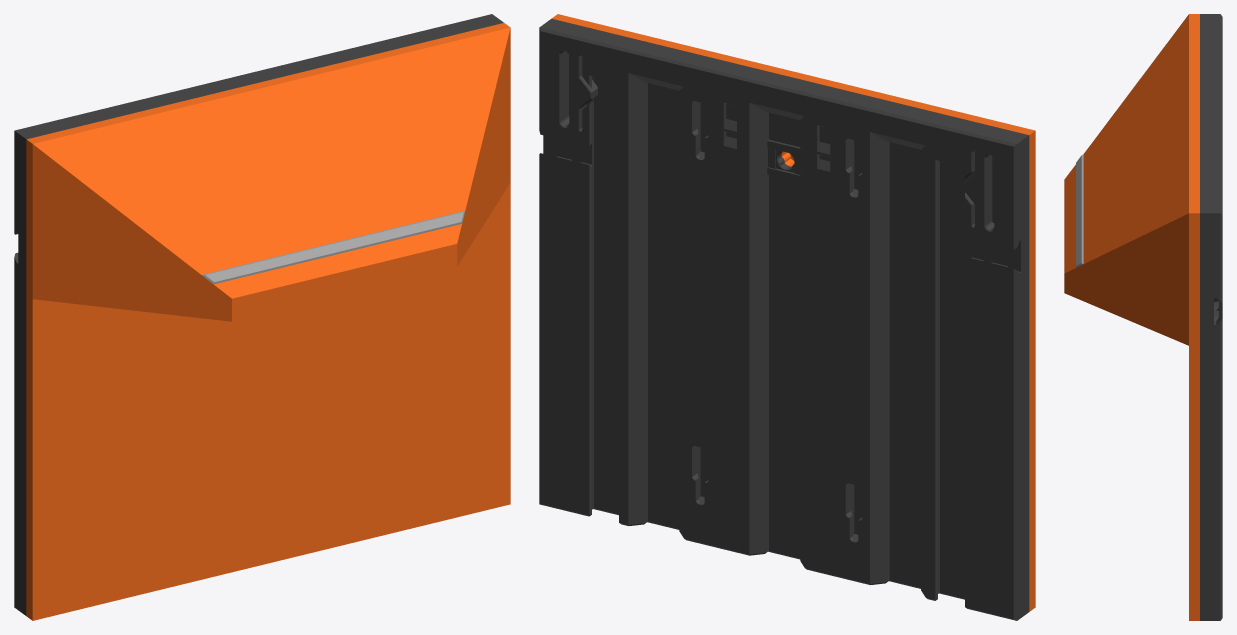
The model's file is Faceplate_ClassicDecor_1W-15H.lib.glb.
The picture shows the model from 3 angles, left to right: view 1: azimuth 30°, elevation 25°; view 2: azimuth 150°, elevation 25°; view 3: azimuth 270°, elevation 25°; orthographic projection. The views are drawn at different scales.
Visible parts, largest first — view 1: Faceplate_ClassicDecor_1W-15H; view 2: Faceplate_ClassicDecor_1W-15H; view 3: Faceplate_ClassicDecor_1W-15H.
Part boxes in pixels (x1,y1,x2,y2): Faceplate_ClassicDecor_1W-15H: [14, 14, 510, 620]; Faceplate_ClassicDecor_1W-15H: [539, 14, 1035, 620]; Faceplate_ClassicDecor_1W-15H: [1064, 14, 1222, 620].
Bounding box in the file's own units: 87 × 83 × 29.2.
